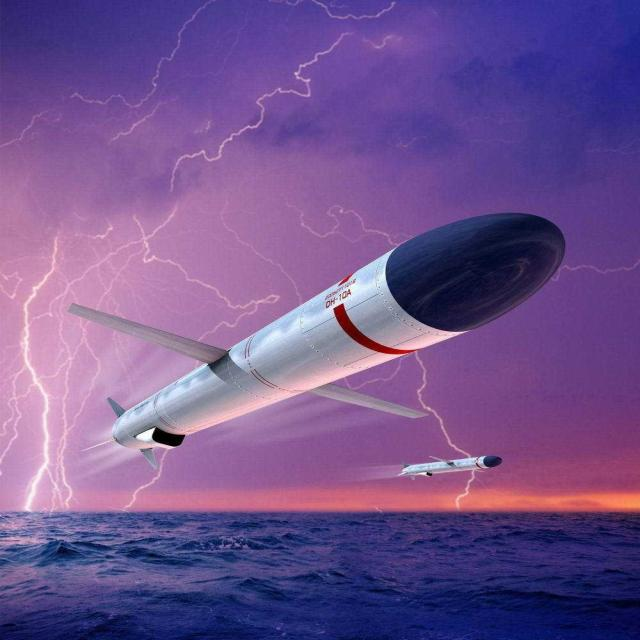missile: (68, 212, 572, 461), (403, 441, 510, 494)
